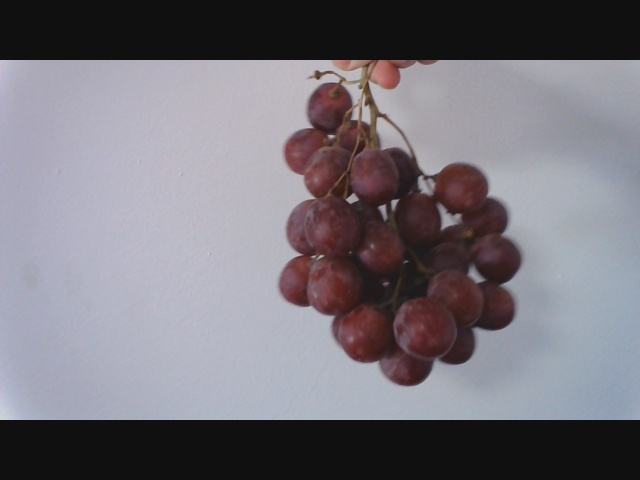grape: (258, 89, 530, 390)
